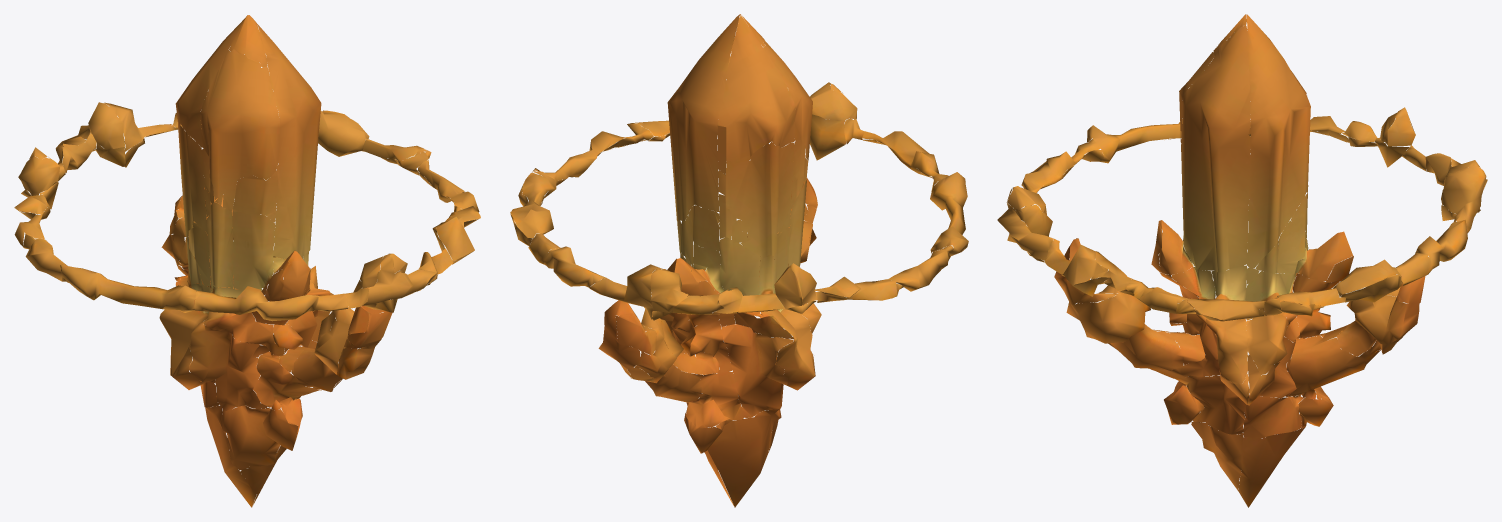
Rendered from cristal-ancora-ambar.glb.
The picture shows the model from 3 angles, left to right: view 1: azimuth 30°, elevation 25°; view 2: azimuth 150°, elevation 25°; view 3: azimuth 270°, elevation 25°; orthographic projection.
Visible parts, largest first — view 1: tripo_node_3cb7541e-28d6-42ba-913c-2e7263264e7c; view 2: tripo_node_3cb7541e-28d6-42ba-913c-2e7263264e7c; view 3: tripo_node_3cb7541e-28d6-42ba-913c-2e7263264e7c.
Boxes of the visible parts, x1,y1,x2,y2 form: tripo_node_3cb7541e-28d6-42ba-913c-2e7263264e7c: (14,15,480,507); tripo_node_3cb7541e-28d6-42ba-913c-2e7263264e7c: (510,14,968,507); tripo_node_3cb7541e-28d6-42ba-913c-2e7263264e7c: (997,14,1487,507).
Bounding box in the file's own units: 0.8445 × 1 × 0.9072.
1 material, 1 textured.
